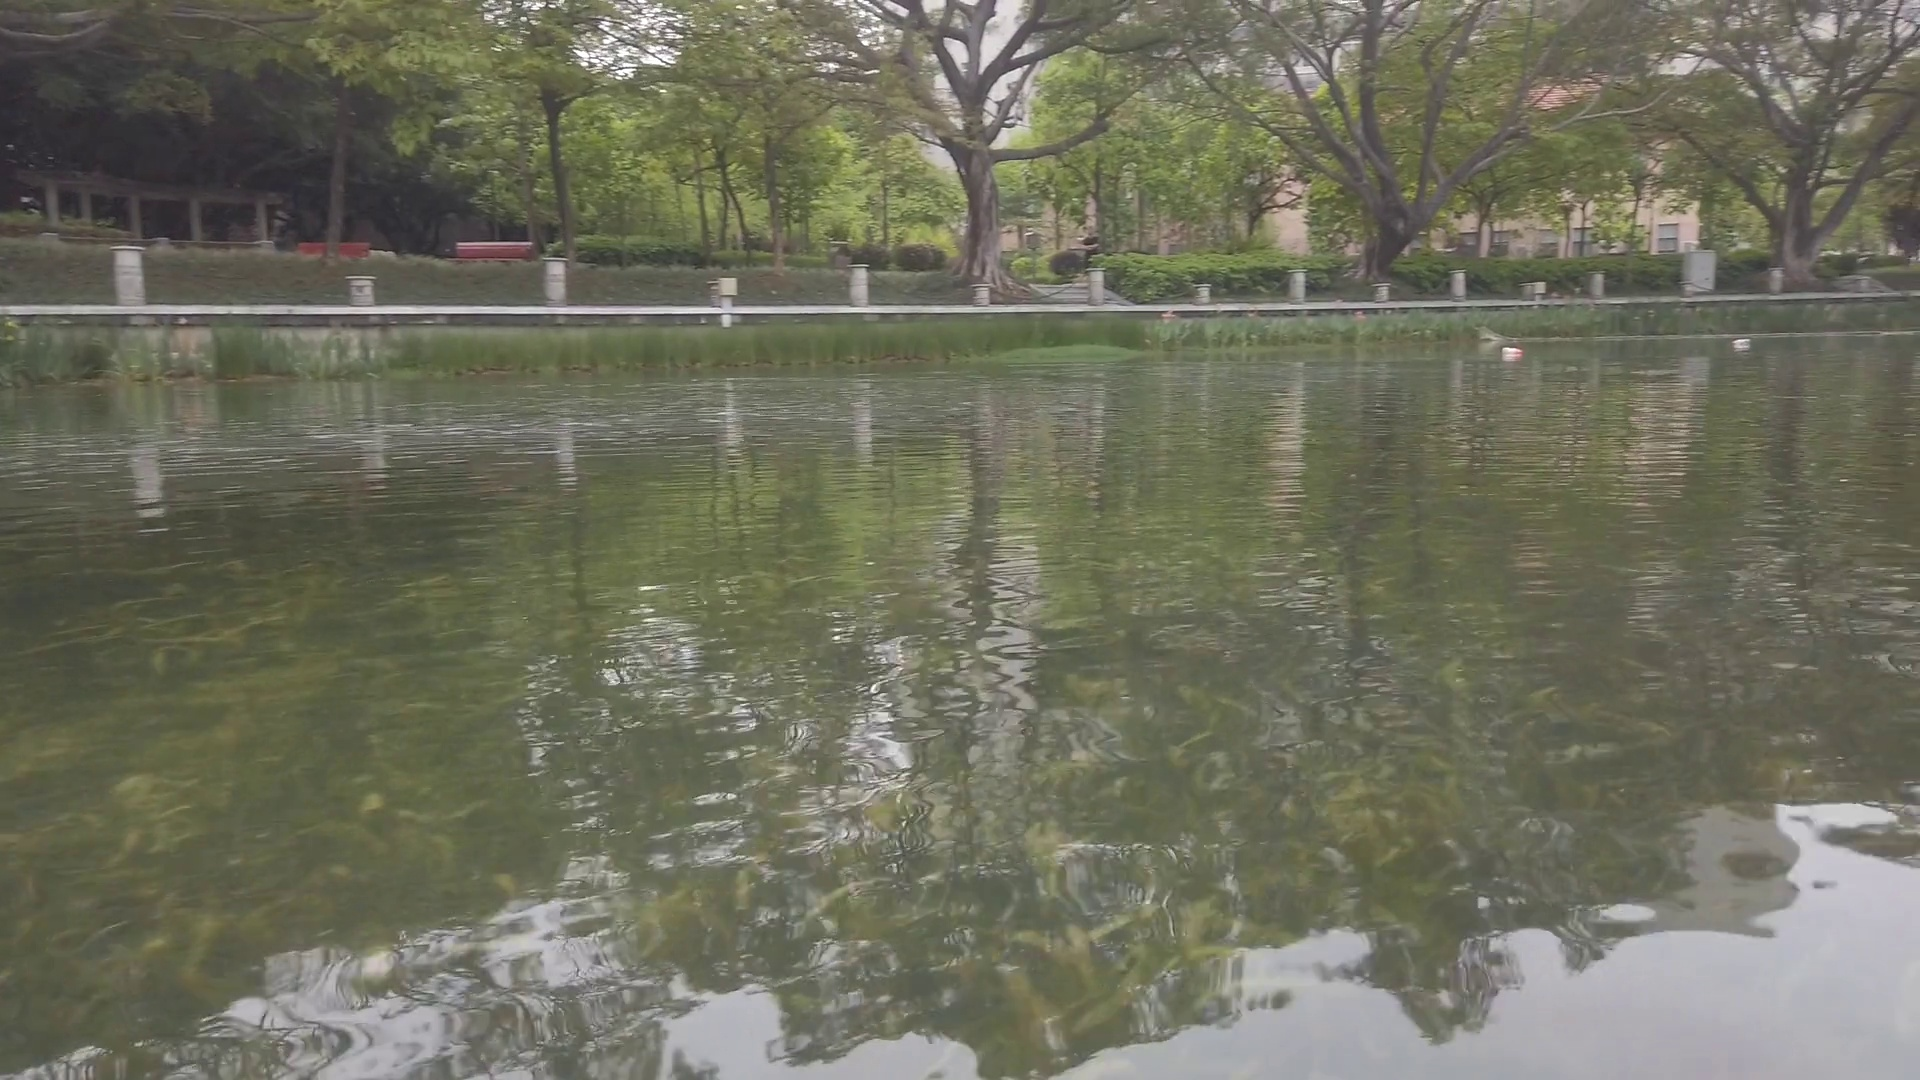bottle: (1502, 342, 1522, 356), (1733, 338, 1753, 347)
